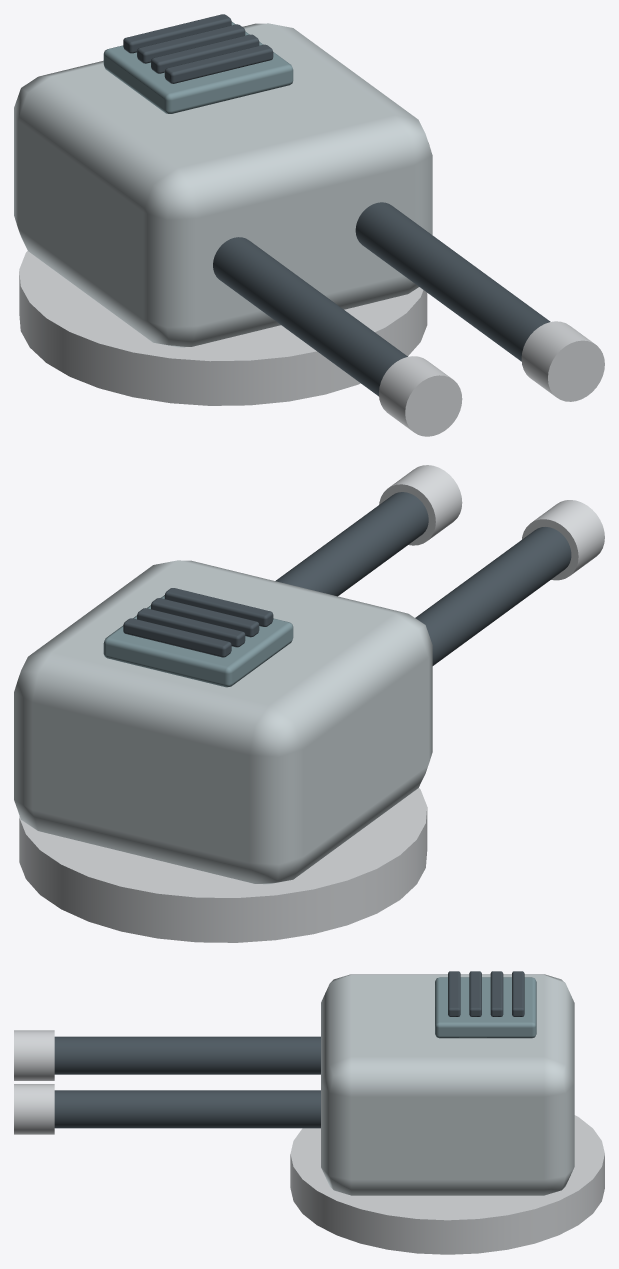
The model's file is turret-twin.glb.
The picture shows the model from 3 angles, top to bottom: view 1: azimuth 30°, elevation 25°; view 2: azimuth 150°, elevation 25°; view 3: azimuth 270°, elevation 25°; orthographic projection. The views are drawn at different scales.
Visible parts, largest first — view 1: twin-turret; view 2: twin-turret; view 3: twin-turret.
Part boxes in pixels (x1,y1,x2,y2): twin-turret: (14,14,604,436); twin-turret: (14,465,604,942); twin-turret: (14,971,604,1254).
Bounding box in the file's own units: 1.24 × 0.865 × 2.33.
